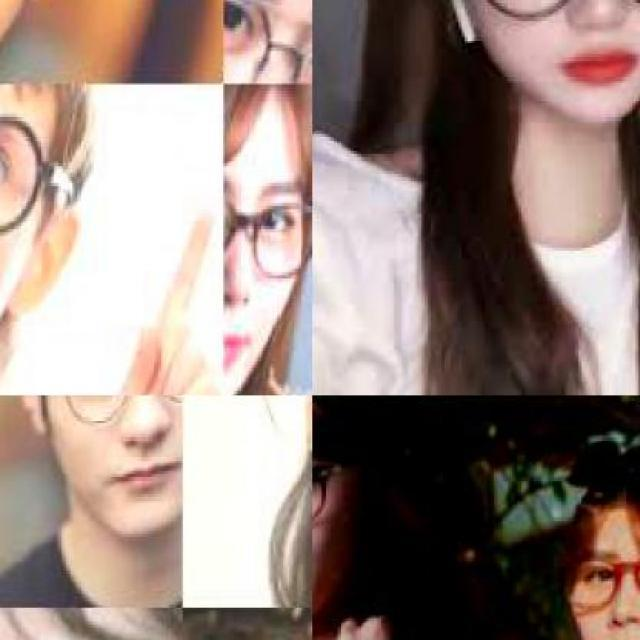glasses: (0, 109, 97, 243), (226, 189, 310, 279), (226, 0, 311, 82), (556, 554, 638, 615)
